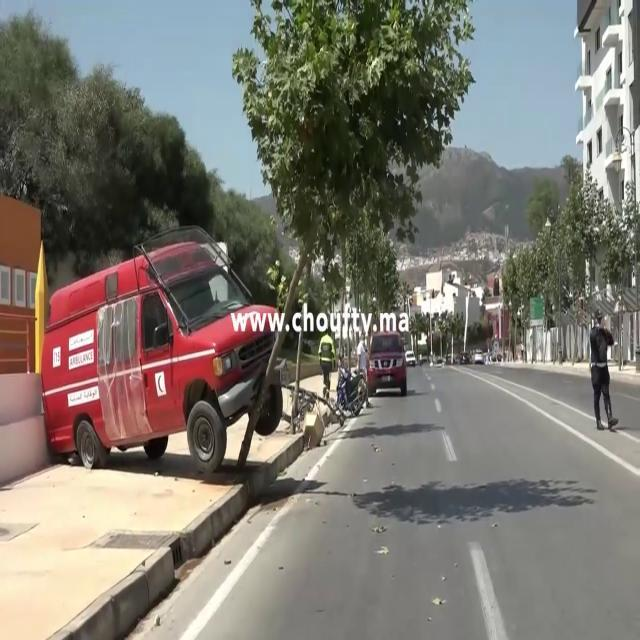ambulance: (41, 240, 286, 476)
